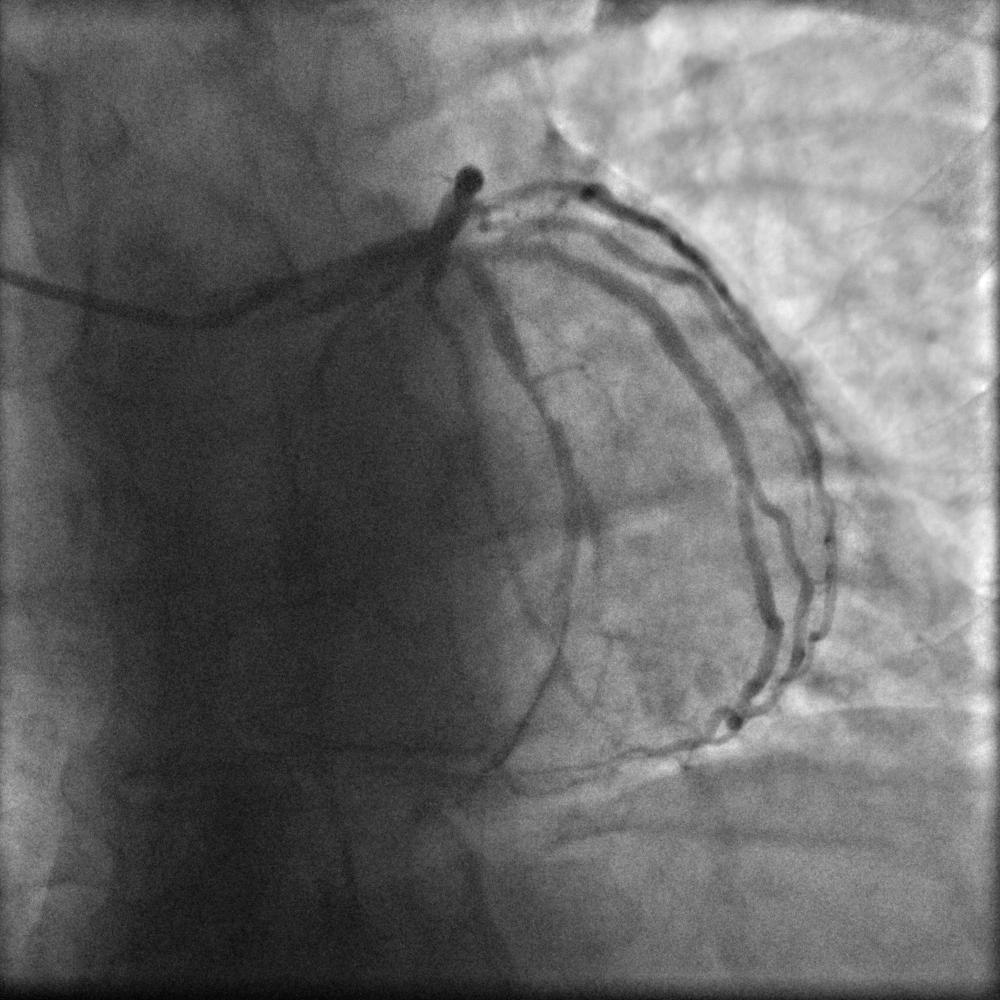Stenosis: (512, 364, 554, 444)
